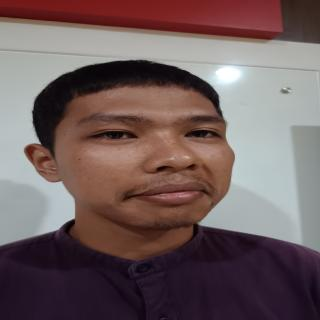Sedih: (51, 83, 244, 231)
